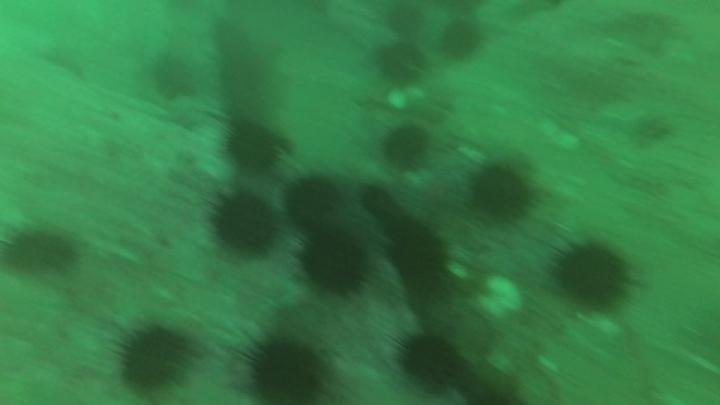echinus: (561, 244, 627, 308), (255, 341, 320, 404), (128, 328, 189, 393), (305, 232, 368, 289), (387, 213, 443, 277), (212, 198, 272, 256), (404, 334, 462, 391), (287, 174, 344, 228), (9, 231, 73, 276), (475, 169, 529, 218), (228, 127, 279, 173), (379, 125, 431, 166), (379, 44, 429, 81), (440, 23, 478, 61), (364, 186, 395, 220)
scallop: (386, 88, 407, 108)
